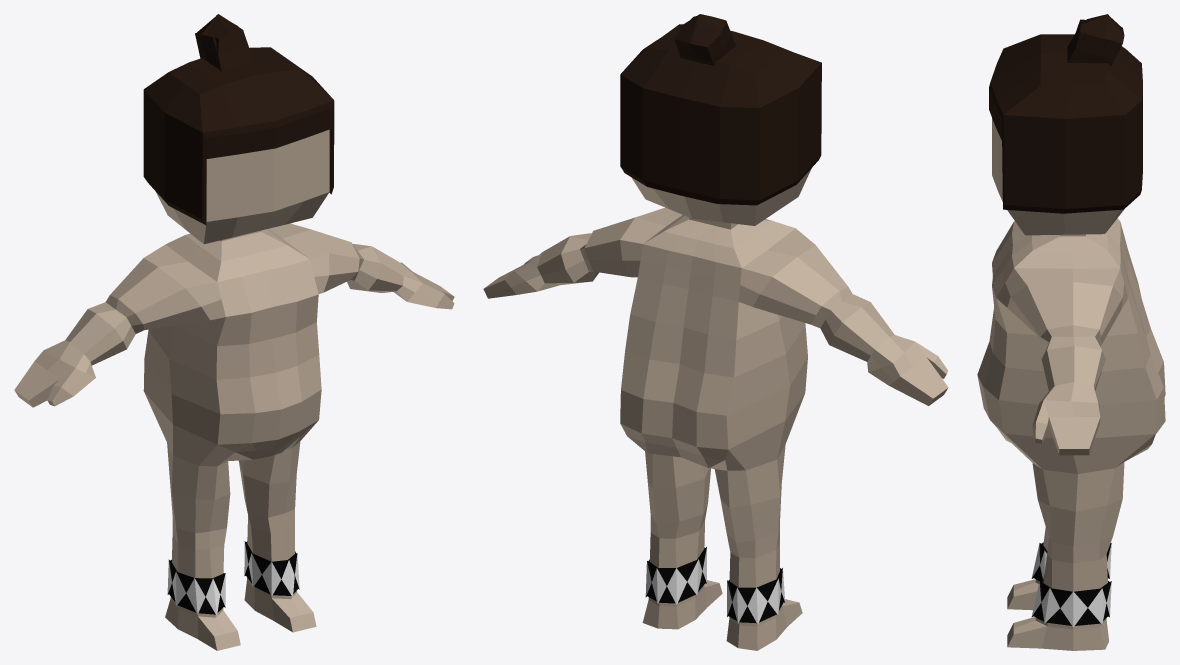
Rendered from MaoriHomemSemSaia.fbx.
3 views of the same model, side by side, from view 1: azimuth 30°, elevation 25°; view 2: azimuth 150°, elevation 25°; view 3: azimuth 270°, elevation 25° (orthographic). The views are drawn at different scales.
Visible parts, largest first — view 1: Corpo.001, Cabelo, Bracelete.001; view 2: Corpo.001, Cabelo, Bracelete.001; view 3: Corpo.001, Cabelo, Bracelete.001.
Part boxes in pixels (bbox=[...]): Corpo.001: bbox=[14, 129, 454, 650]; Cabelo: bbox=[143, 14, 334, 224]; Bracelete.001: bbox=[167, 541, 299, 615]; Corpo.001: bbox=[483, 168, 948, 650]; Cabelo: bbox=[620, 14, 821, 205]; Bracelete.001: bbox=[645, 547, 785, 624]; Corpo.001: bbox=[977, 118, 1165, 650]; Cabelo: bbox=[989, 14, 1142, 213]; Bracelete.001: bbox=[1031, 542, 1111, 627].
Bounding box in the file's own units: 429 × 567 × 159.
